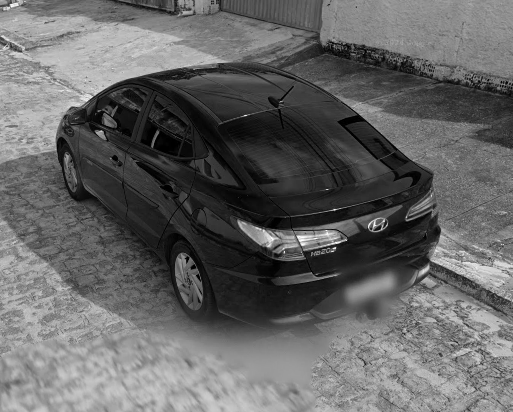car: (55, 59, 441, 332)
